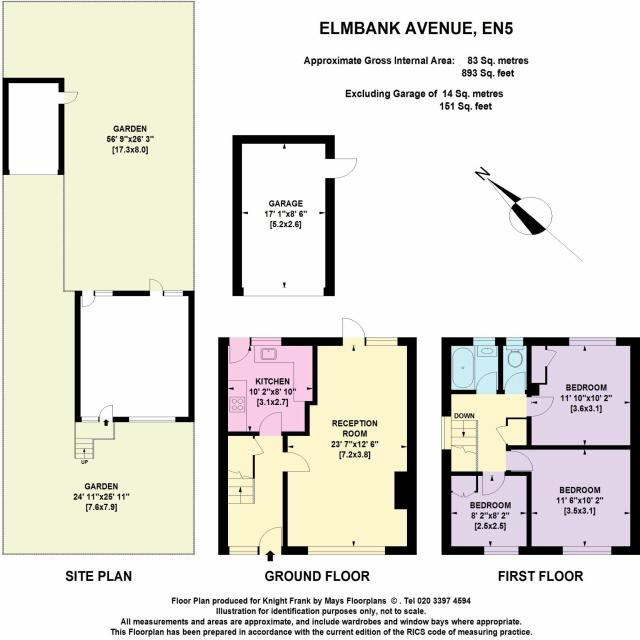DOOR: (341, 317, 365, 346), (258, 526, 282, 555), (282, 451, 311, 473), (258, 411, 283, 436), (228, 337, 251, 364), (526, 396, 554, 417), (482, 471, 505, 496), (506, 450, 533, 471), (503, 371, 526, 394), (475, 371, 497, 394)
ROOM: (283, 317, 417, 555), (505, 445, 640, 555), (526, 337, 640, 450), (218, 337, 318, 436), (441, 471, 532, 555)
WINDOW: (307, 545, 386, 556), (568, 336, 617, 347), (562, 546, 612, 555), (441, 416, 452, 451), (483, 546, 520, 555), (251, 337, 282, 347), (228, 546, 258, 556), (366, 337, 398, 346), (473, 337, 496, 346), (506, 337, 524, 346)
